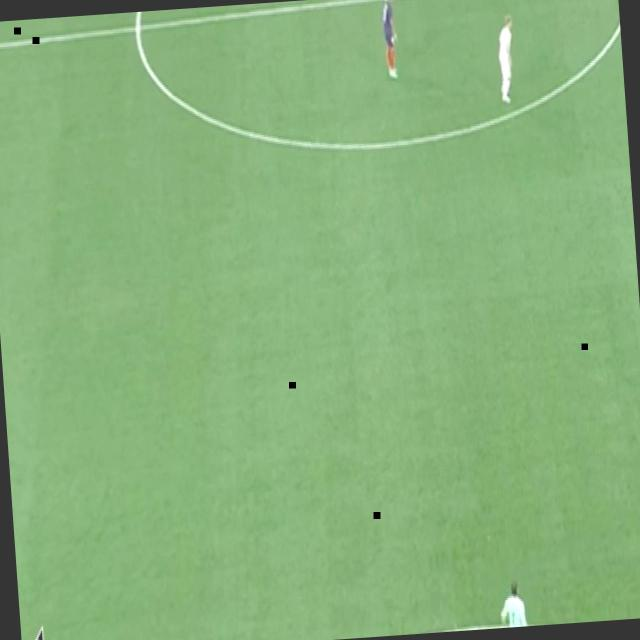player-white: (492, 10, 522, 106), (378, 0, 404, 83), (497, 574, 531, 628)
